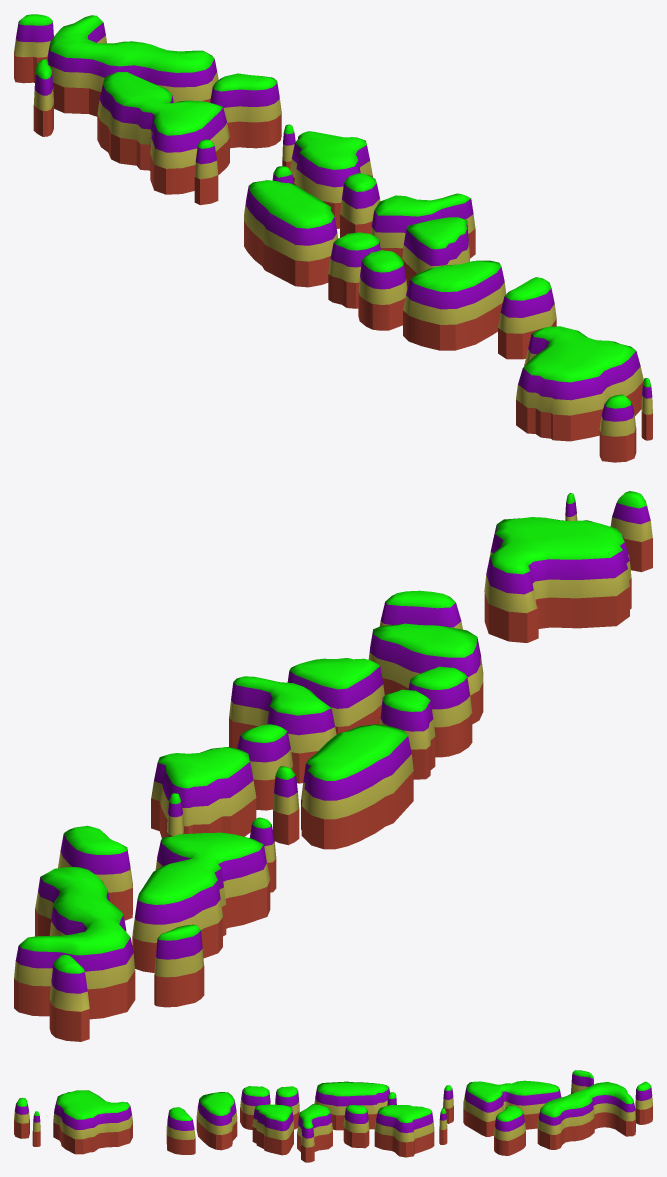
File: maldives_provinces_cartoon_map.glb
The picture shows the model from 3 angles, top to bottom: view 1: azimuth 30°, elevation 25°; view 2: azimuth 150°, elevation 25°; view 3: azimuth 270°, elevation 25°; orthographic projection. The views are drawn at different scales.
Parts seen in each view (by area): view 1: Bases, North central, Northern, Upper North, South Central, Upper South, Central, Southern; view 2: Bases, North central, Northern, Upper North, South Central, Central, Upper South, Southern; view 3: Bases, North central, Upper North, Northern, South Central, Central, Upper South, Southern.
Boxes of the visible parts, x1,y1,x2,y2 form: Bases: [14, 53, 652, 462]; North central: [244, 124, 475, 261]; Northern: [97, 72, 281, 179]; Upper North: [14, 14, 218, 110]; South Central: [516, 326, 643, 415]; Upper South: [403, 260, 556, 333]; Central: [328, 217, 469, 304]; Southern: [599, 378, 652, 436]; Bases: [14, 538, 652, 1041]; North central: [151, 676, 413, 835]; Northern: [58, 817, 276, 942]; Upper North: [14, 867, 203, 1011]; South Central: [484, 517, 631, 613]; Central: [287, 658, 472, 749]; Upper South: [368, 590, 483, 695]; Southern: [565, 491, 652, 541]; Bases: [14, 1091, 652, 1162]; North central: [297, 1081, 447, 1147]; Upper North: [537, 1070, 652, 1134]; Northern: [443, 1080, 561, 1140]; South Central: [53, 1090, 133, 1139]; Central: [240, 1086, 299, 1140]; Upper South: [166, 1092, 237, 1139]; Southern: [14, 1097, 40, 1131].
Bounding box in the file's own units: 4.88 × 1.42 × 22.62.
